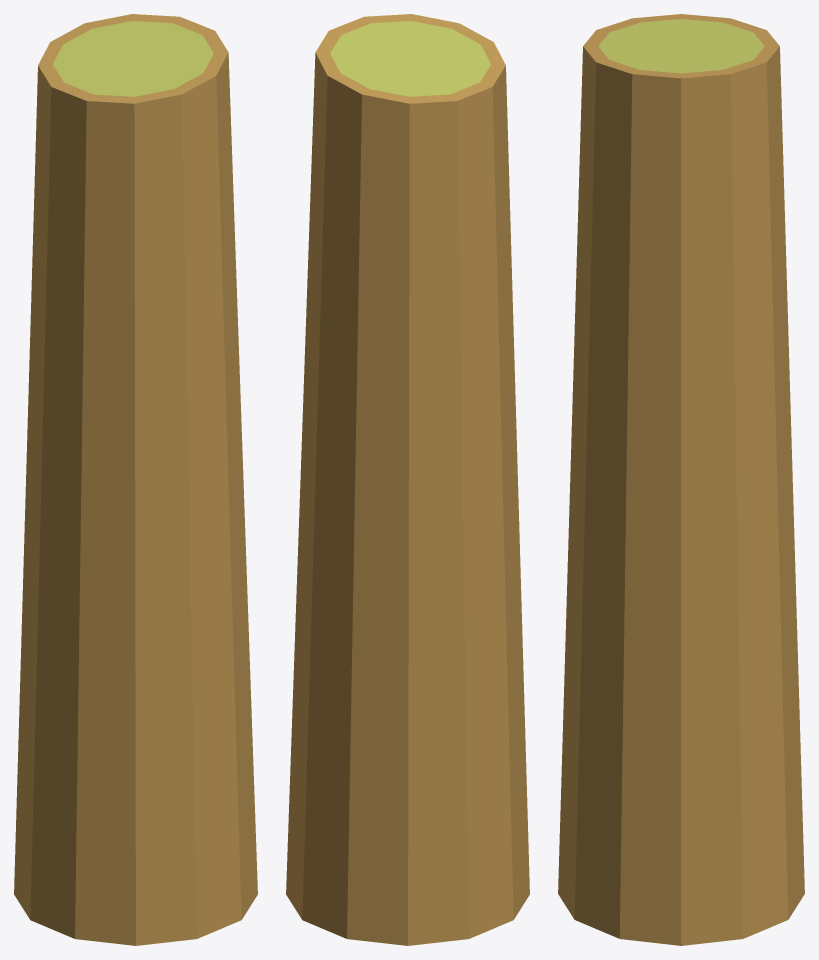
Rendered from PalmLog.fbx.
The picture shows the model from 3 angles, left to right: view 1: azimuth 30°, elevation 25°; view 2: azimuth 150°, elevation 25°; view 3: azimuth 270°, elevation 25°; orthographic projection.
Parts seen in each view (by area): view 1: Cylinder.007; view 2: Cylinder.007; view 3: Cylinder.007.
Part boxes in pixels (x1,y1,x2,y2): Cylinder.007: (14,14,257,945); Cylinder.007: (286,14,529,945); Cylinder.007: (558,14,804,945).
Size of the model in its own units: 33.08 by 33.08 by 126.
